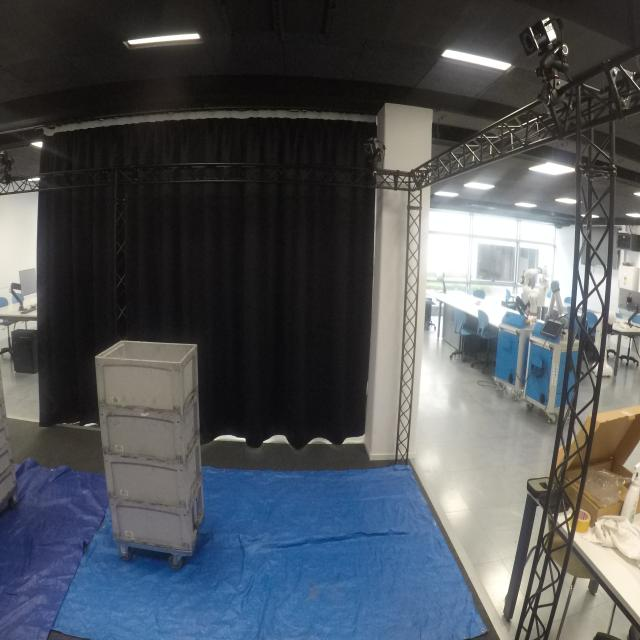Box4G: (92, 334, 199, 416), (91, 394, 209, 464), (98, 437, 206, 513), (106, 484, 210, 556)
